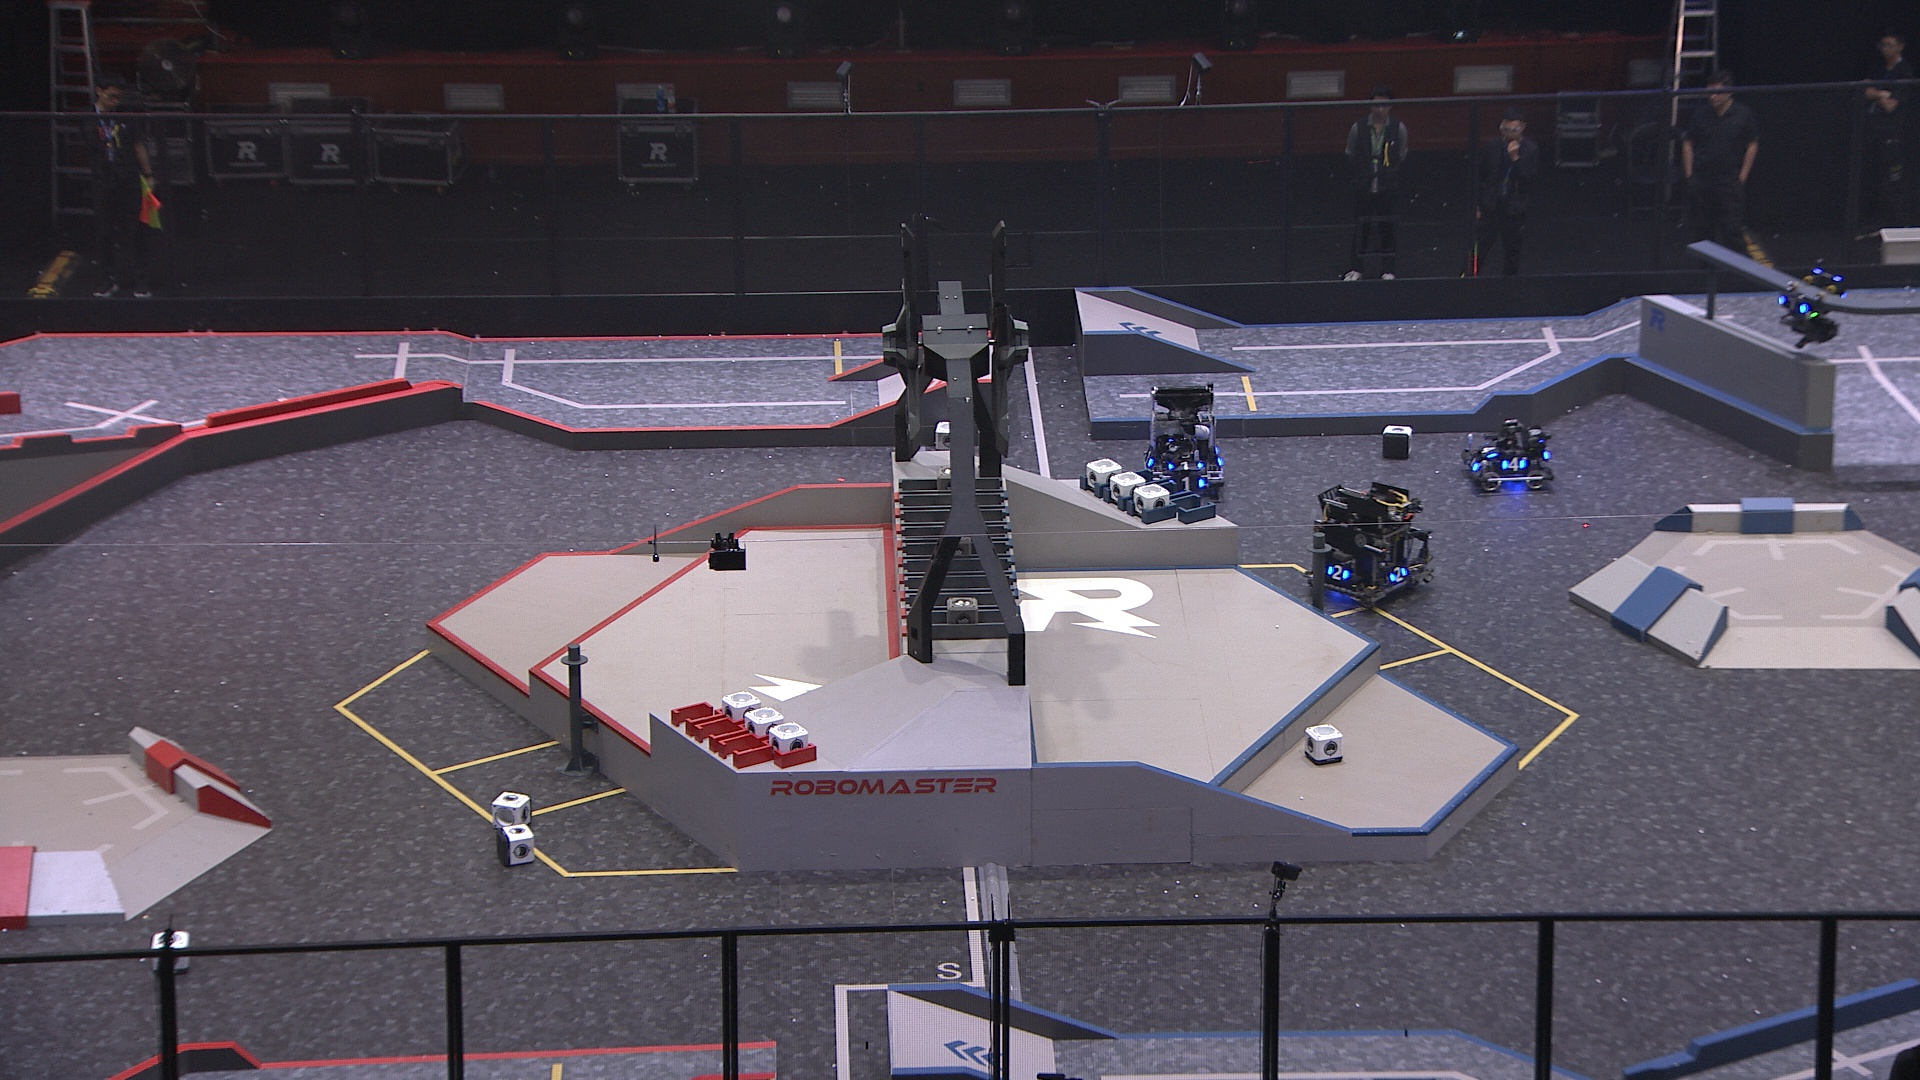armor: (1774, 290, 1809, 315), (1163, 454, 1205, 475), (1167, 472, 1207, 495), (1385, 560, 1411, 585), (1501, 454, 1528, 472), (1325, 560, 1349, 582), (1139, 446, 1155, 469), (1480, 442, 1501, 458), (1465, 454, 1482, 471)
car: (1305, 481, 1433, 607), (1135, 380, 1230, 498), (1462, 415, 1557, 493)
watcher: (1774, 256, 1855, 349)
